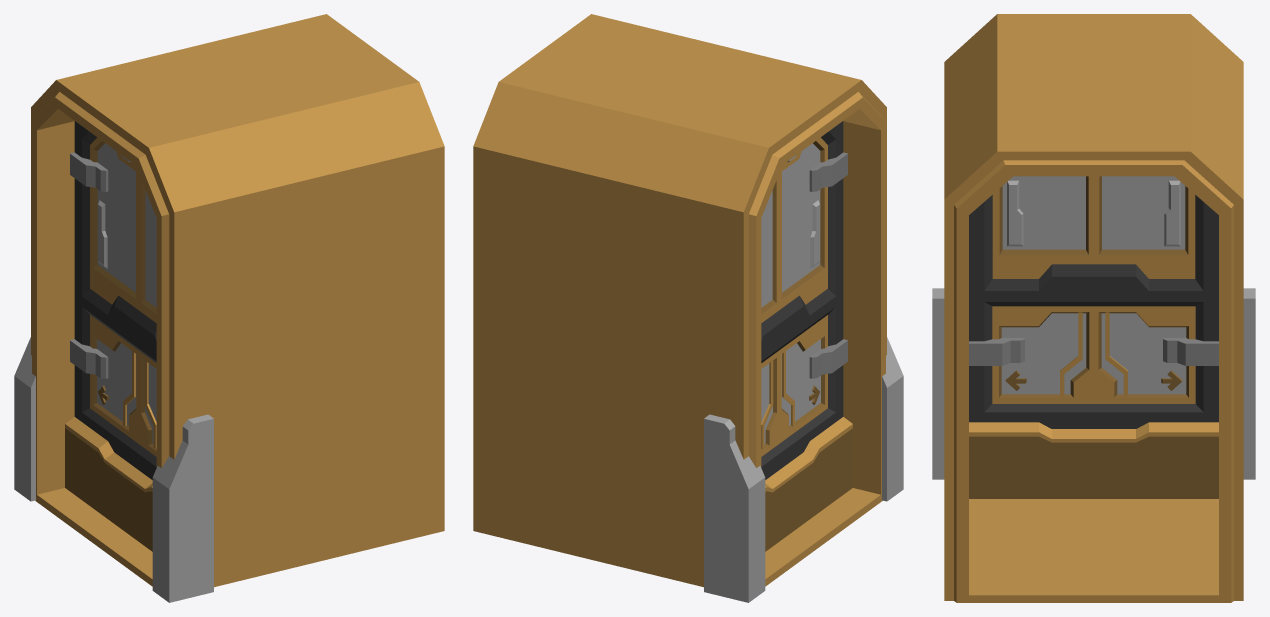
The model's file is einzeltuer.fbx.
3 views of the same model, side by side, from view 1: azimuth 30°, elevation 25°; view 2: azimuth 150°, elevation 25°; view 3: azimuth 270°, elevation 25° (orthographic). The views are drawn at different scales.
Visible parts, largest first — view 1: einzeltuerrahmen, einzeltuer; view 2: einzeltuerrahmen, einzeltuer; view 3: einzeltuerrahmen, einzeltuer.
Part boxes in pixels (bbox=[...]): einzeltuerrahmen: bbox=[14, 14, 444, 602]; einzeltuer: bbox=[65, 121, 156, 551]; einzeltuerrahmen: bbox=[473, 14, 903, 602]; einzeltuer: bbox=[761, 121, 852, 551]; einzeltuerrahmen: bbox=[932, 14, 1255, 602]; einzeltuer: bbox=[969, 176, 1218, 498].
Size of the model in its own units: 1.53 by 1.44 by 2.21.
